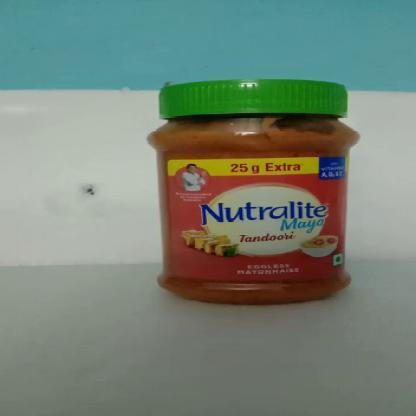Nutralite TANDOORI MAYO 300g-275g-25g-: (146, 78, 360, 305)
